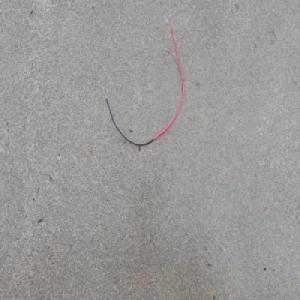Wire: (99, 14, 184, 147)
